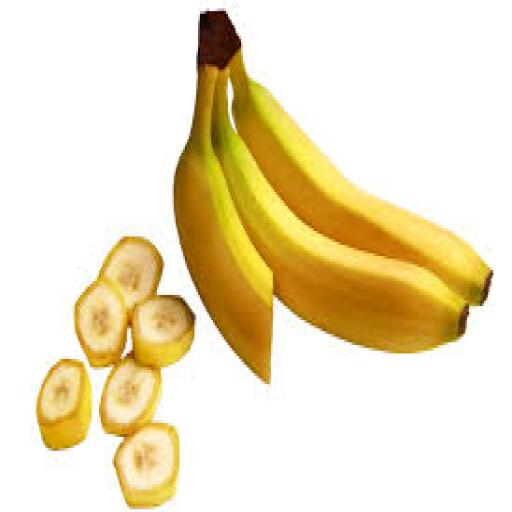banana: (214, 70, 469, 353), (230, 48, 491, 303), (174, 59, 272, 381), (114, 423, 179, 506), (38, 359, 91, 450), (100, 357, 160, 436), (75, 279, 128, 367), (100, 237, 162, 311), (133, 295, 194, 367)
